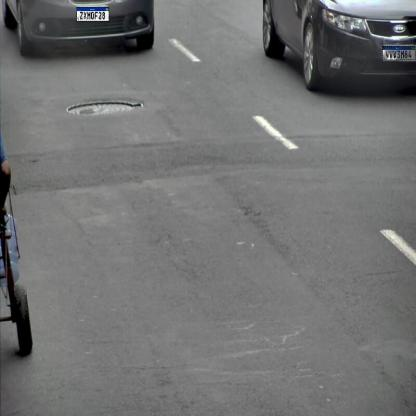PlacaM: (76, 7, 110, 21), (382, 46, 416, 60)
